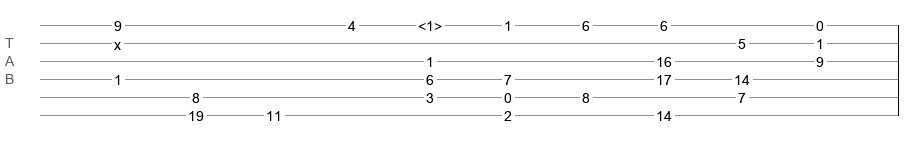0: (504, 90, 512, 100), (816, 18, 824, 28)
1: (114, 72, 122, 82), (426, 54, 434, 64), (504, 18, 512, 28), (816, 36, 824, 46)
11: (266, 108, 282, 118)
14: (656, 108, 672, 118), (734, 72, 750, 82)
16: (656, 54, 672, 64)
17: (656, 72, 672, 82)
19: (188, 108, 204, 118)
2: (504, 108, 512, 118)
3: (426, 90, 434, 100)
4: (348, 18, 356, 28)
5: (738, 36, 746, 46)
6: (426, 72, 434, 82), (582, 18, 590, 28), (660, 18, 668, 28)
7: (504, 72, 512, 82), (738, 90, 746, 100)
8: (192, 90, 200, 100), (582, 90, 590, 100)
9: (114, 18, 122, 28), (816, 54, 824, 64)
harmonic: (418, 18, 442, 28)
x: (114, 37, 121, 45)
